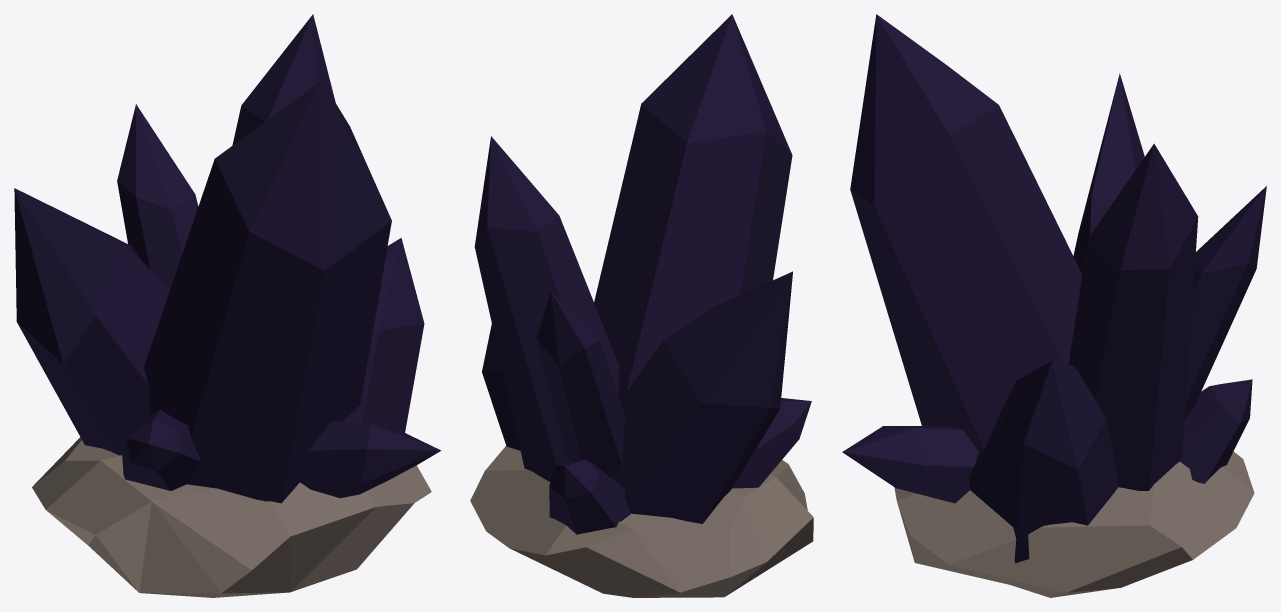
Rendered from cristaux_v3.fbx.
3 renders of one model, left to right at view 1: azimuth 30°, elevation 25°; view 2: azimuth 150°, elevation 25°; view 3: azimuth 270°, elevation 25°, orthographic. The views are drawn at different scales.
Parts seen in each view (by area): view 1: Cylinder.009; view 2: Cylinder.009; view 3: Cylinder.009.
Boxes of the visible parts, x1,y1,x2,y2 form: Cylinder.009: (14,14,441,597); Cylinder.009: (470,14,813,597); Cylinder.009: (842,14,1266,597).
Size of the model in its own units: 300 by 425 by 300.
